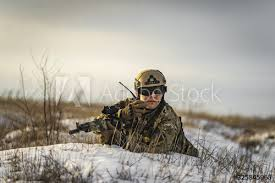gun: (62, 105, 148, 141)
